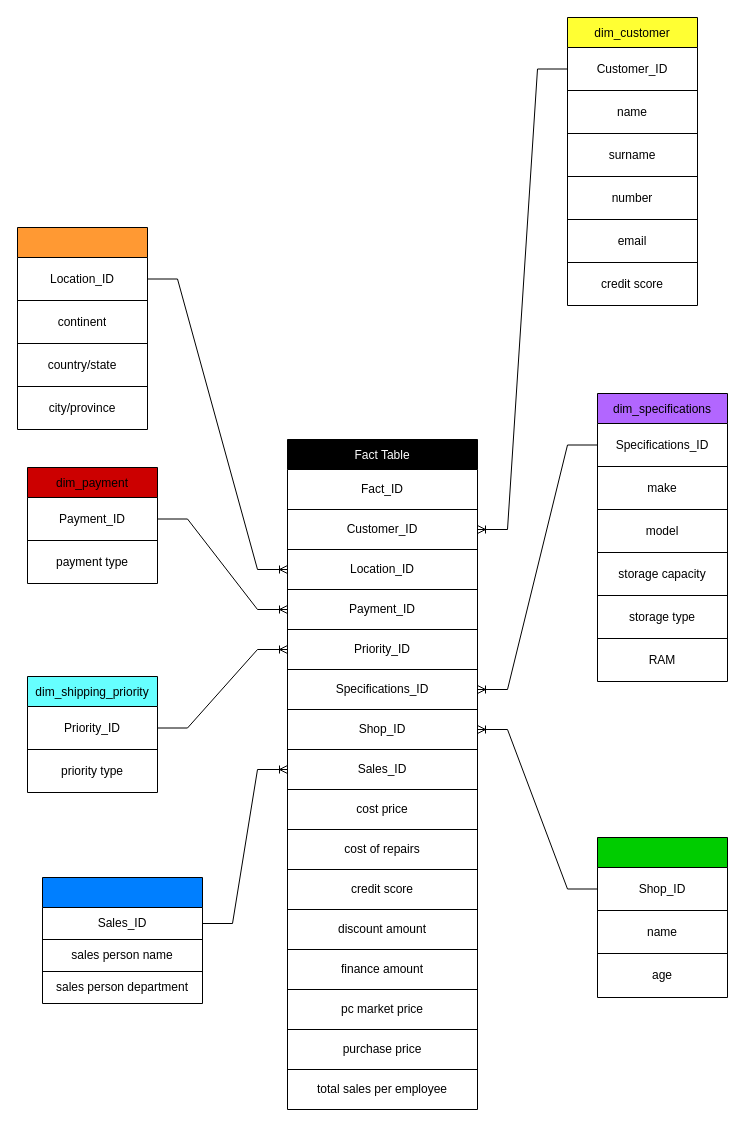
Some shapes in this 745 by 1127 pixel diagram are drawn without their labels. The box of each missing label's shape, as (x1, y1, x2, y2) in pixels:
dim_location: (16, 226, 148, 430)
dim_sales: (42, 876, 202, 1004)
dim_shop: (596, 836, 728, 998)
